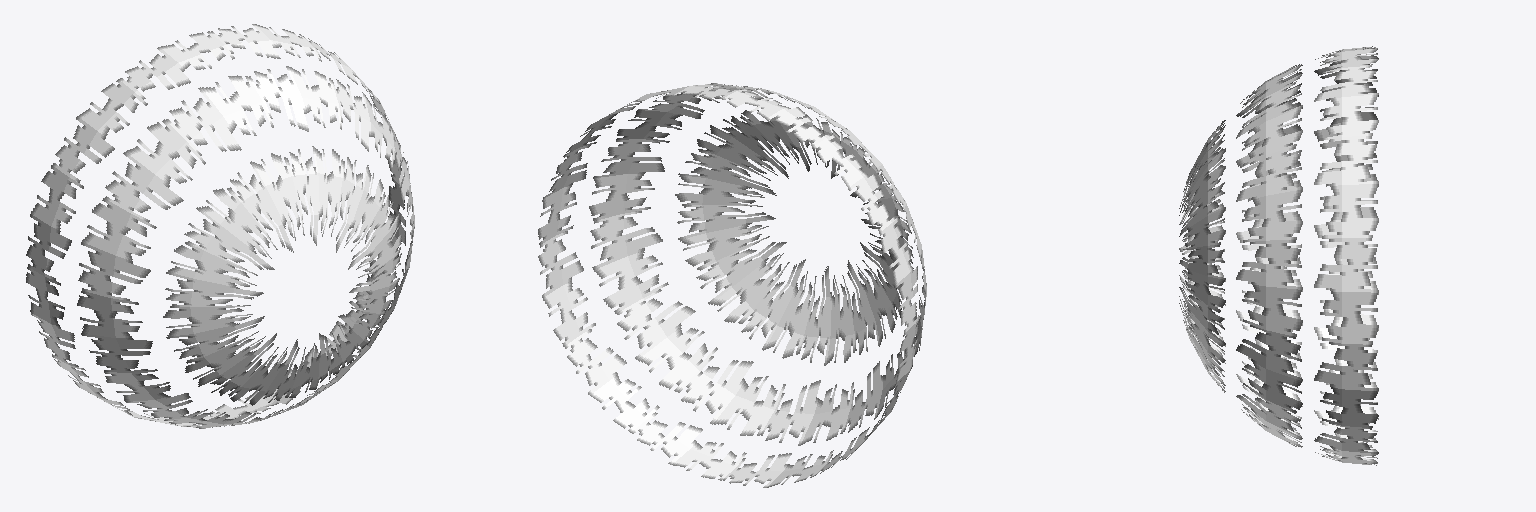
3 views of the same model, side by side, from view 1: azimuth 30°, elevation 25°; view 2: azimuth 150°, elevation 25°; view 3: azimuth 270°, elevation 25° (orthographic).
Parts seen in each view (by area): view 1: polygon0; view 2: polygon0; view 3: polygon0.
Part boxes in pixels (x1,y1,x2,y2): polygon0: (26, 24, 414, 428); polygon0: (538, 83, 926, 487); polygon0: (1179, 46, 1378, 465).
Bounding box in the file's own units: 24 × 24 × 11.77.
Materials: 1 (1 with a texture image).